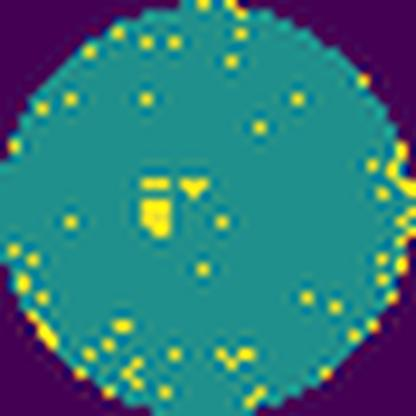Loc: (140, 195, 172, 243)
